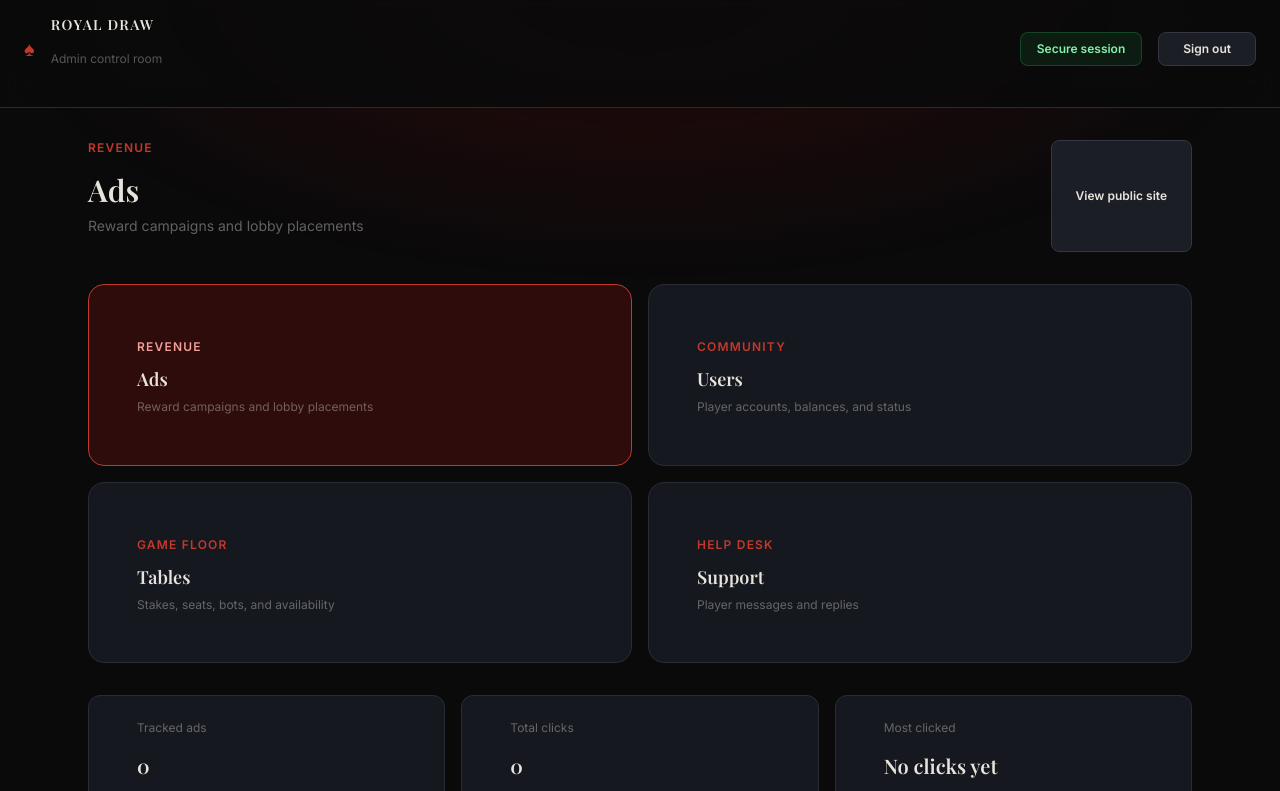
Test: AdminDashboard: record text › a record with no status is labelled Configured, a banned one is labelled banned
The image size is (1280, 791).
Click the button "Community Users Player accounts, balances, and status" at {"x": 741, "y": 346}, box [648,284,1192,466]
(page scrolled)
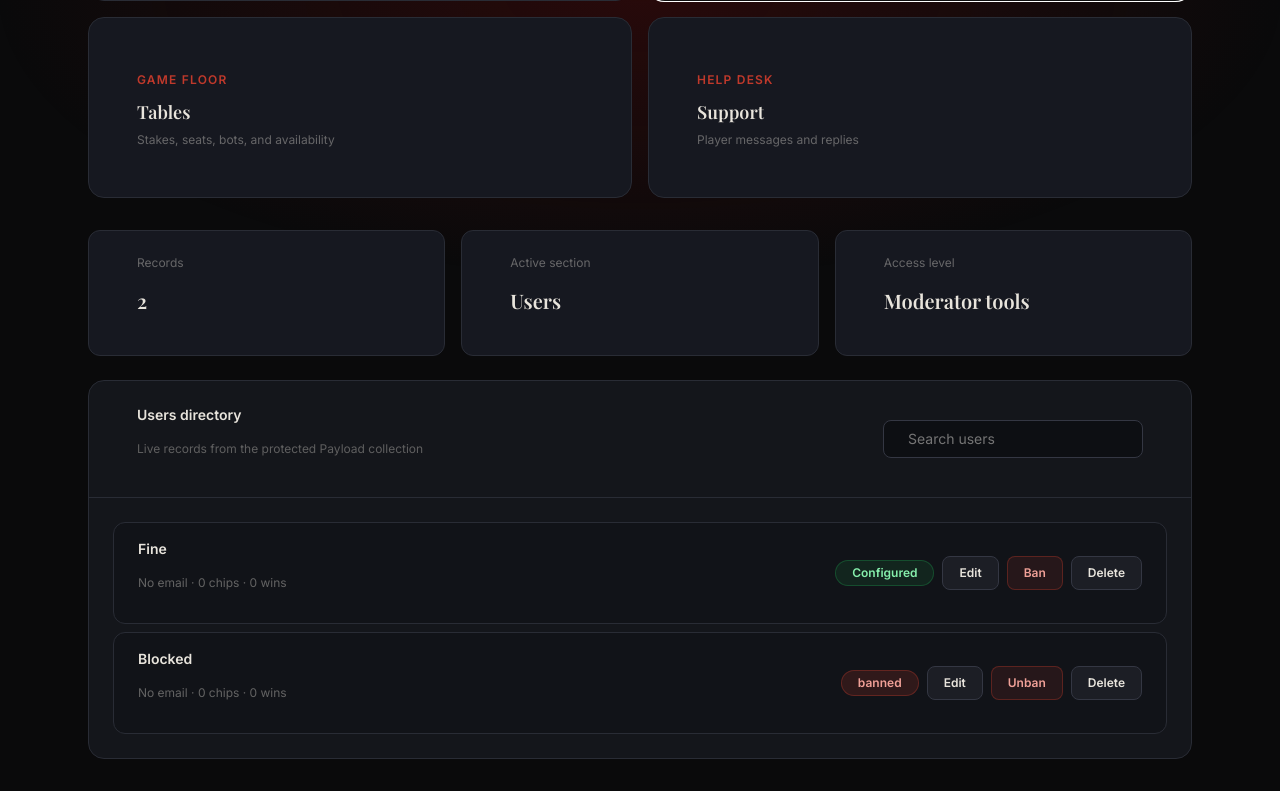
expect the text "Blocked" is shown: met, box [138,650,192,667]
expect the text "Configured" is shown: met, box [835,560,934,586]
expect the text "banned" is shown: met, box [841,670,919,696]
